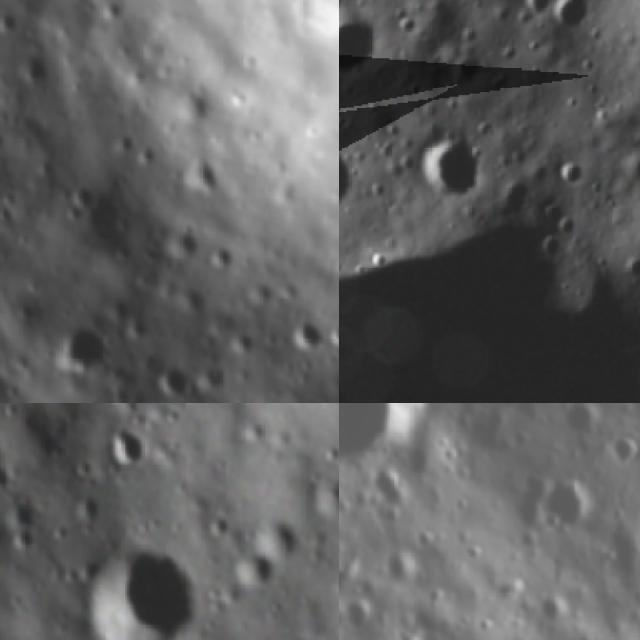crater: (339, 229, 640, 403), (73, 540, 204, 640), (339, 403, 437, 470), (423, 135, 487, 200), (532, 477, 592, 542), (339, 9, 379, 85), (100, 420, 154, 474), (54, 322, 112, 372), (372, 548, 426, 591), (252, 519, 304, 559), (228, 550, 271, 596), (181, 150, 223, 195), (555, 403, 607, 438), (339, 141, 362, 214), (10, 48, 52, 87), (530, 592, 579, 625), (289, 312, 326, 354), (311, 470, 339, 519), (604, 432, 640, 470), (164, 228, 203, 263), (551, 0, 591, 33), (157, 364, 190, 399), (207, 240, 240, 271), (560, 157, 586, 190), (70, 181, 100, 207), (521, 0, 555, 21), (624, 249, 640, 286), (0, 204, 22, 229), (0, 6, 20, 32), (325, 319, 339, 348)
